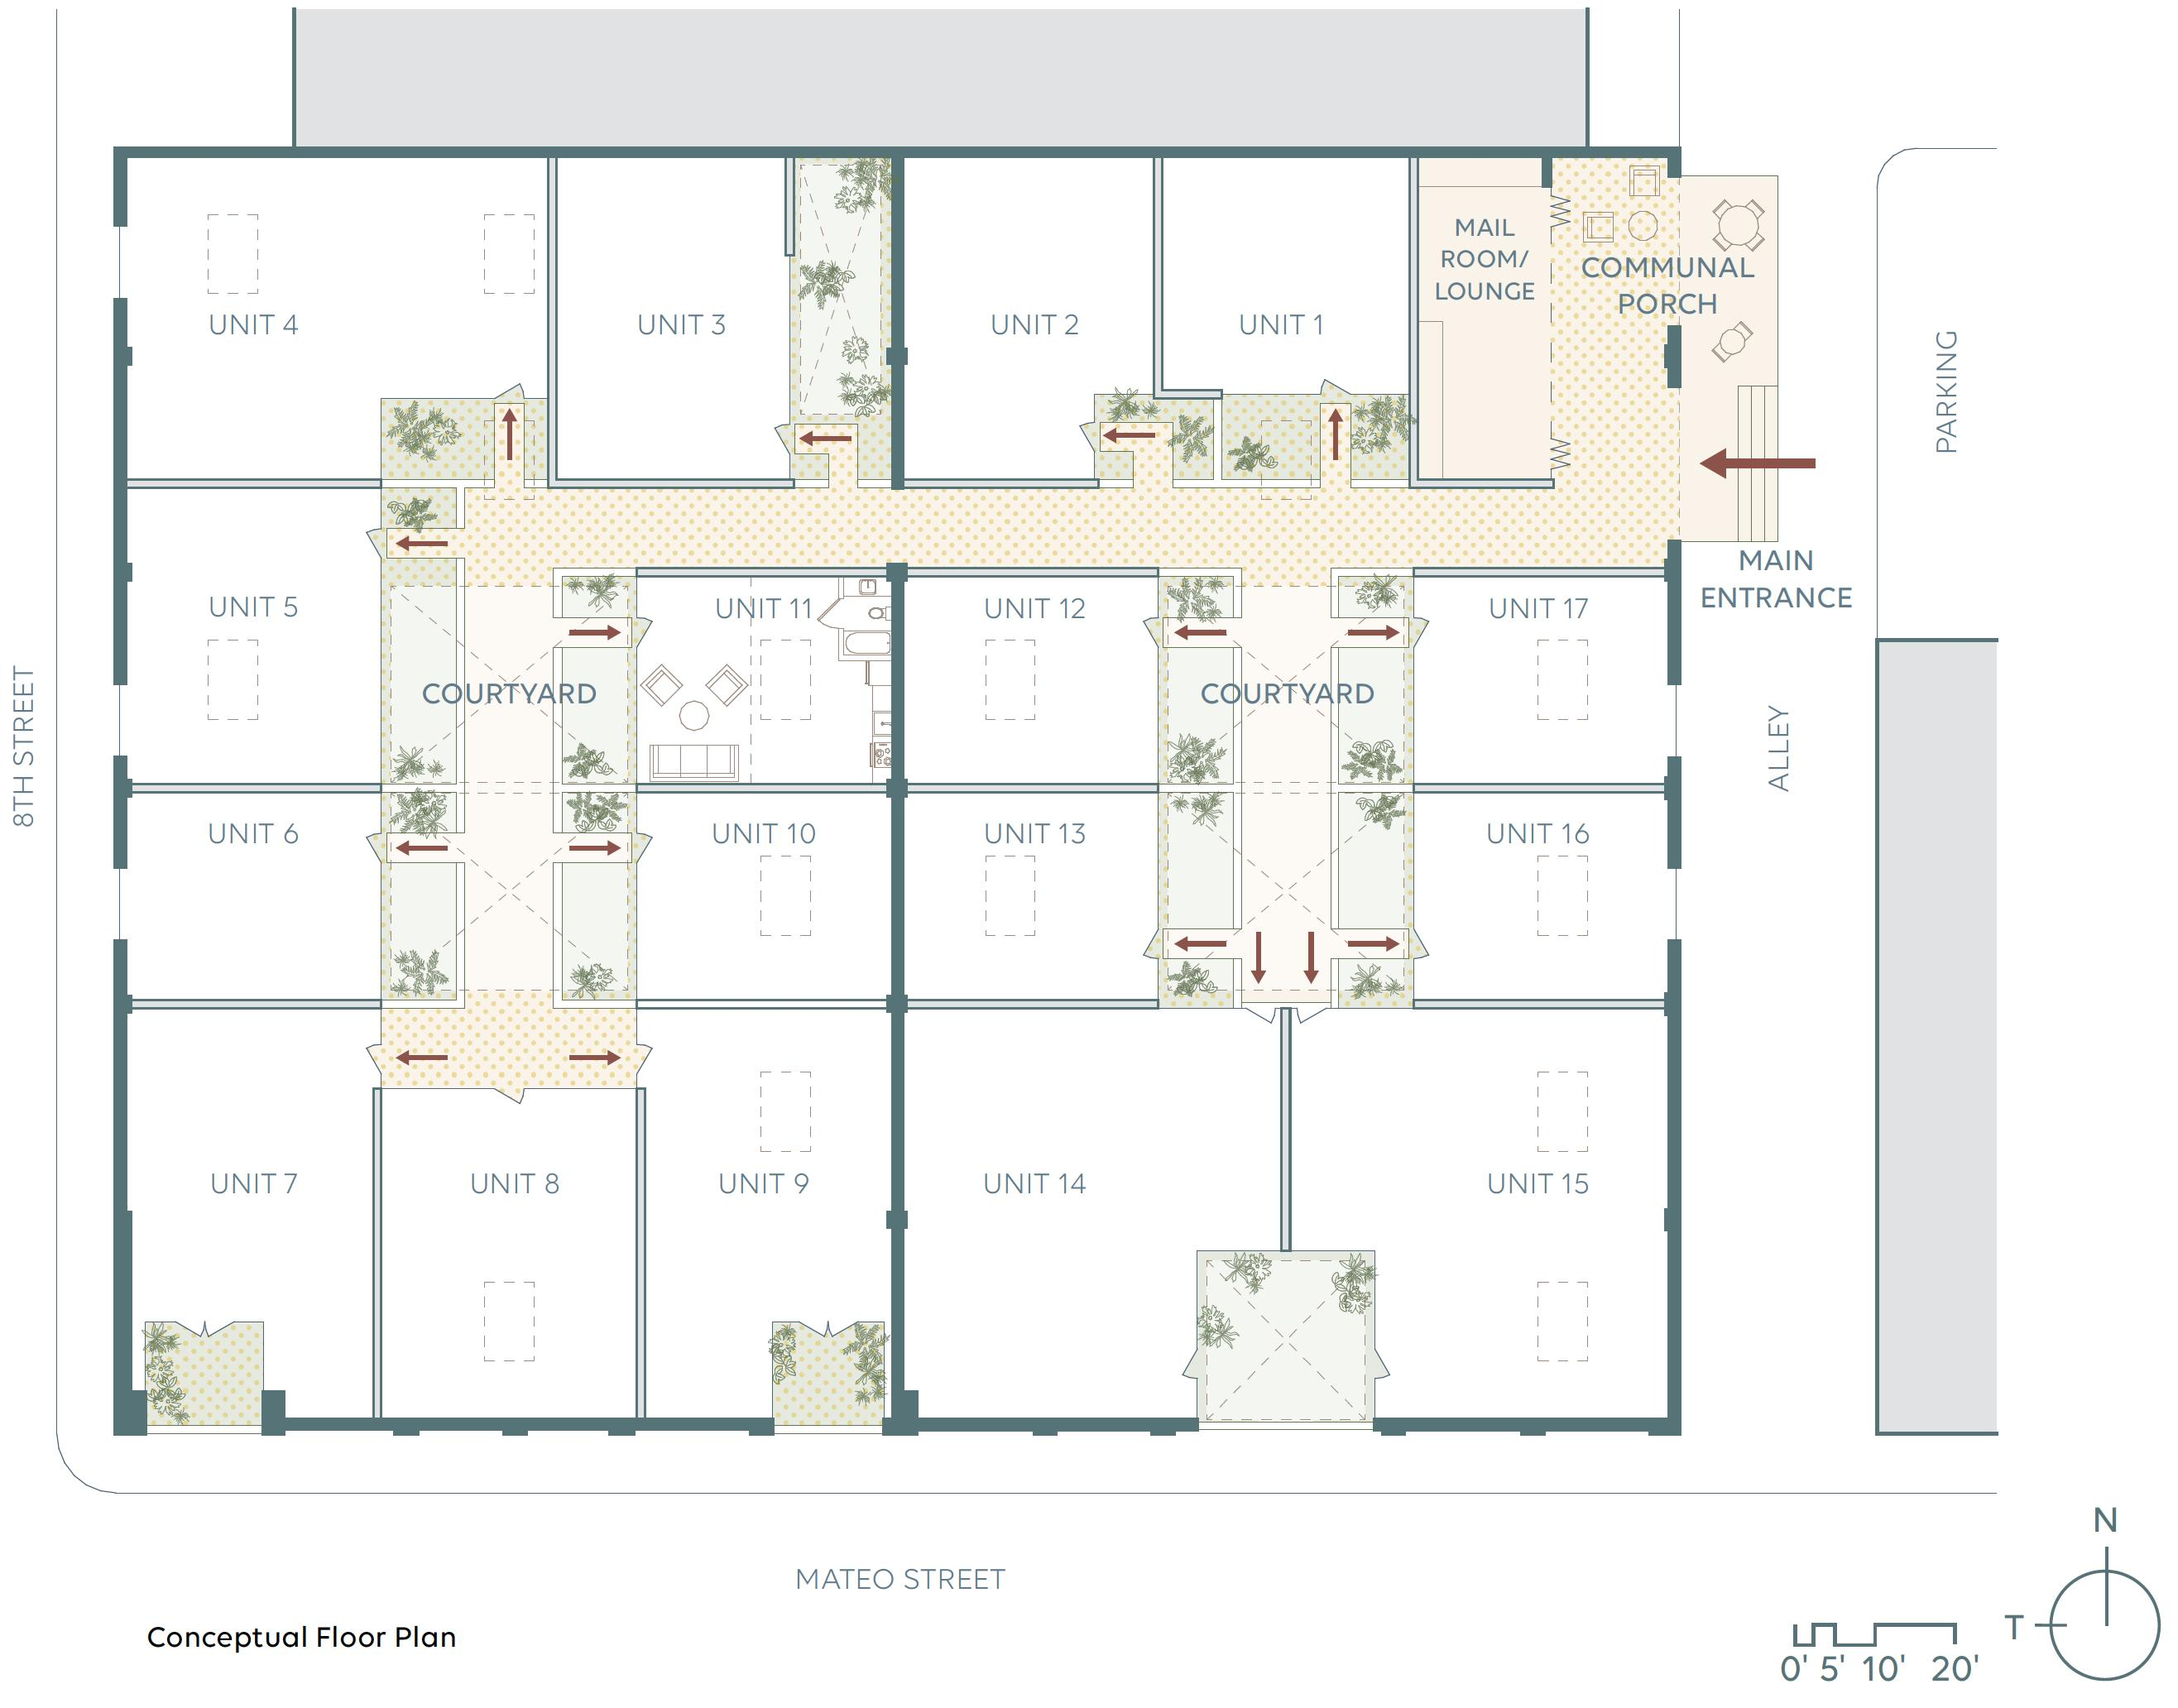room: (896, 1004, 1285, 1423), (1285, 1004, 1674, 1422), (120, 154, 553, 484), (118, 1003, 378, 1425), (638, 1004, 898, 1427), (120, 481, 461, 787), (375, 1087, 640, 1420), (898, 152, 1158, 484), (1413, 156, 1672, 483), (553, 156, 792, 484), (118, 789, 460, 1004), (1158, 154, 1413, 393), (1414, 569, 1674, 790), (896, 571, 1161, 787), (898, 787, 1160, 1004), (1409, 787, 1674, 1001), (636, 789, 896, 1004), (636, 573, 896, 787)
